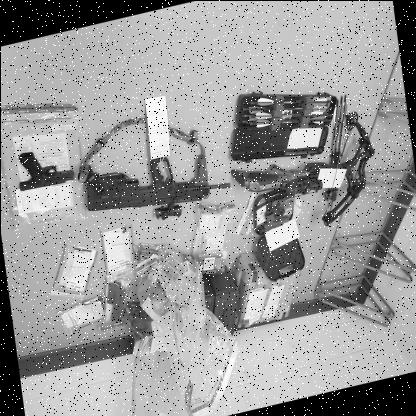rifle: (83, 136, 231, 225)
